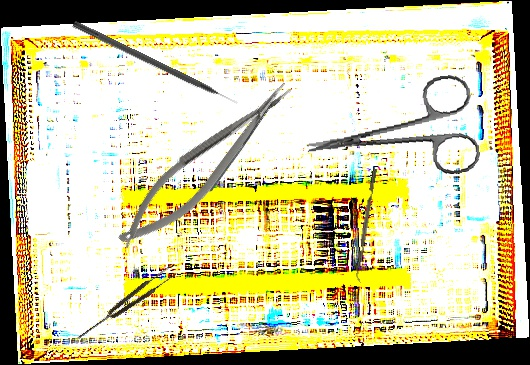Chopper: (353, 168, 382, 283)
Hook Surgical: (71, 20, 239, 109)
Iris Scissors: (299, 72, 482, 194)
Needle Holder: (105, 73, 308, 259)
Tissue Forceps: (73, 263, 179, 344)
